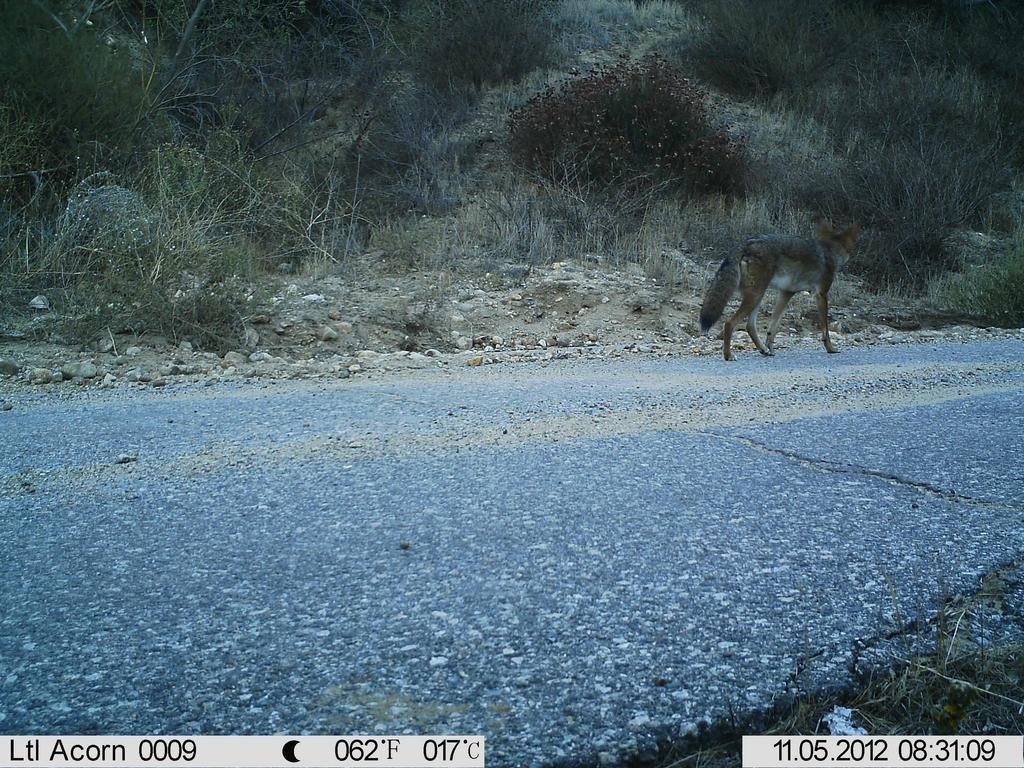coyote: (628, 191, 886, 439)
